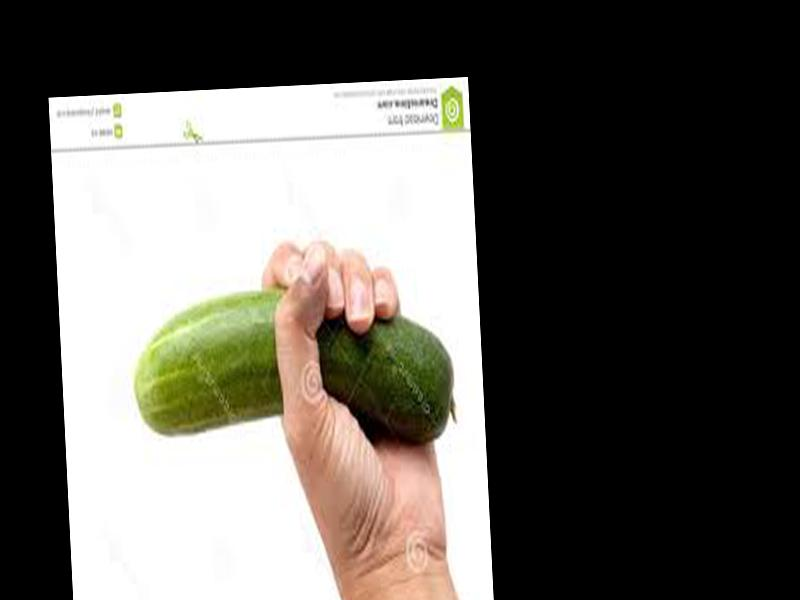Cucumber: (129, 278, 454, 456)
